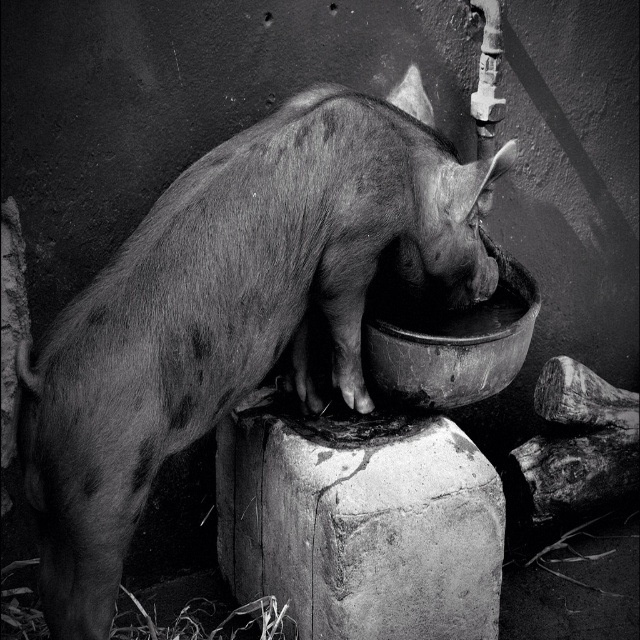Pig: (15, 61, 520, 639)
